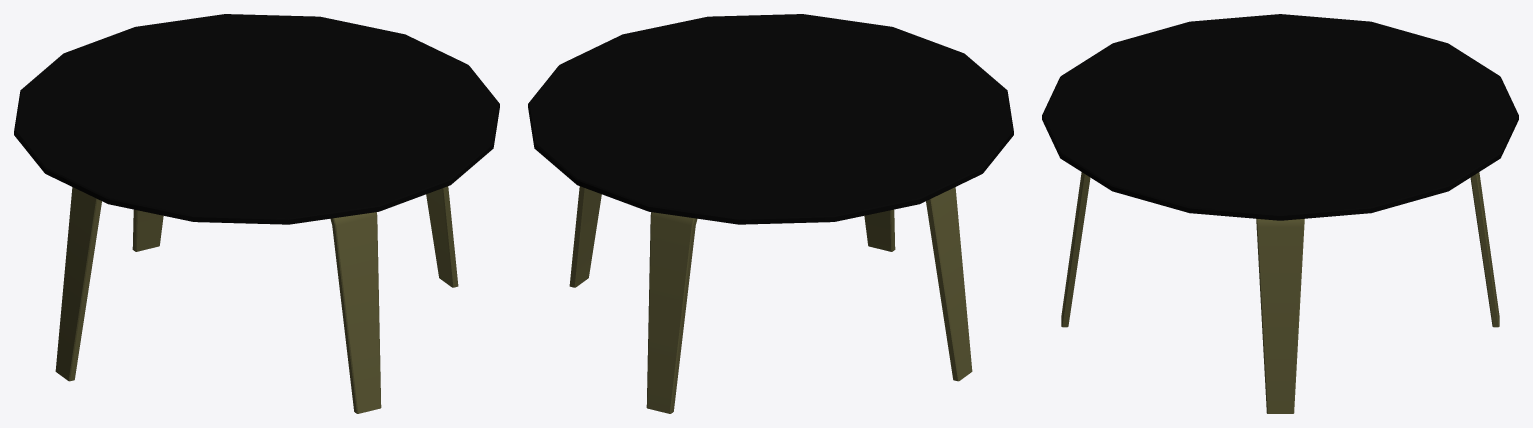
Rendered from Mini_Table.fbx.
The picture shows the model from 3 angles, left to right: view 1: azimuth 30°, elevation 25°; view 2: azimuth 150°, elevation 25°; view 3: azimuth 270°, elevation 25°; orthographic projection. The views are drawn at different scales.
Visible parts, largest first — view 1: Mini_Table; view 2: Mini_Table; view 3: Mini_Table.
Part boxes in pixels (x1,y1,x2,y2): Mini_Table: [14, 14, 499, 413]; Mini_Table: [528, 14, 1013, 413]; Mini_Table: [1042, 14, 1518, 413].
Size of the model in its own units: 78.78 by 37.75 by 78.78.
